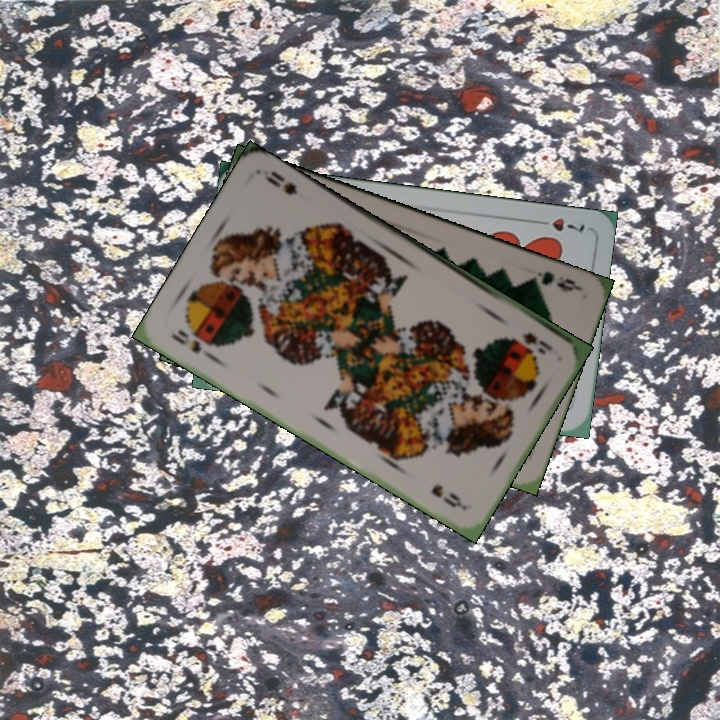G9: (523, 267, 584, 295)
H7: (530, 213, 589, 235)
SO: (166, 325, 218, 363), (518, 328, 556, 357)
